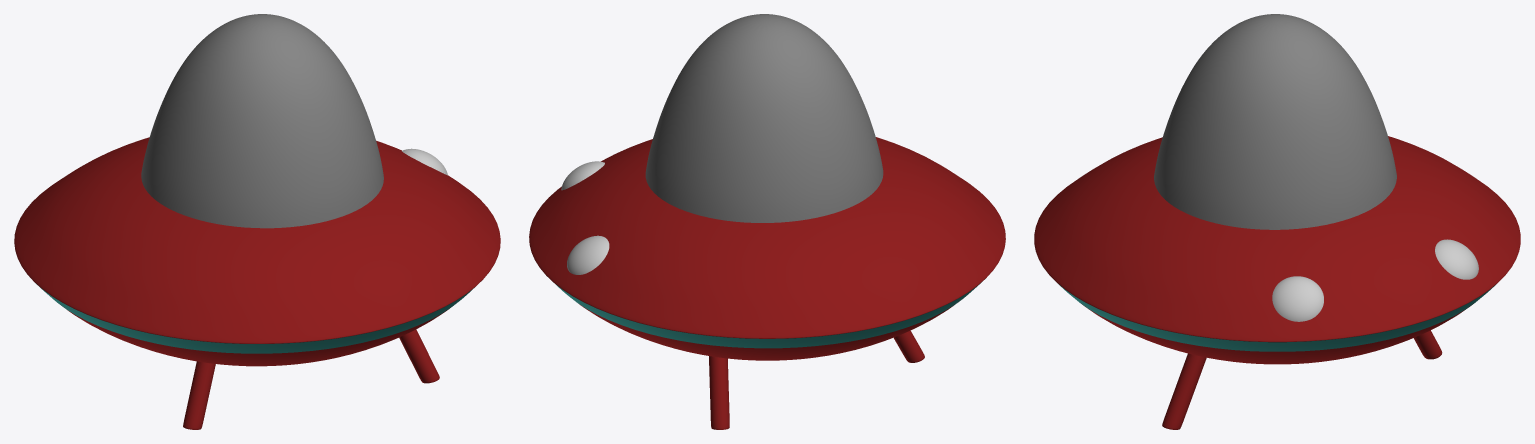
The model's file is UFO.dae.
3 views of the same model, side by side, from view 1: azimuth 30°, elevation 25°; view 2: azimuth 150°, elevation 25°; view 3: azimuth 270°, elevation 25° (orthographic). The views are drawn at different scales.
Visible parts, largest first — view 1: pasted__pasted__polySurface2; view 2: pasted__pasted__polySurface2; view 3: pasted__pasted__polySurface2.
Boxes of the visible parts, <box> form: pasted__pasted__polySurface2: <box>14,14,500,429</box>; pasted__pasted__polySurface2: <box>529,14,1005,429</box>; pasted__pasted__polySurface2: <box>1034,14,1520,429</box>.
Bounding box in the file's own units: 2.04 × 1.63 × 2.04.
